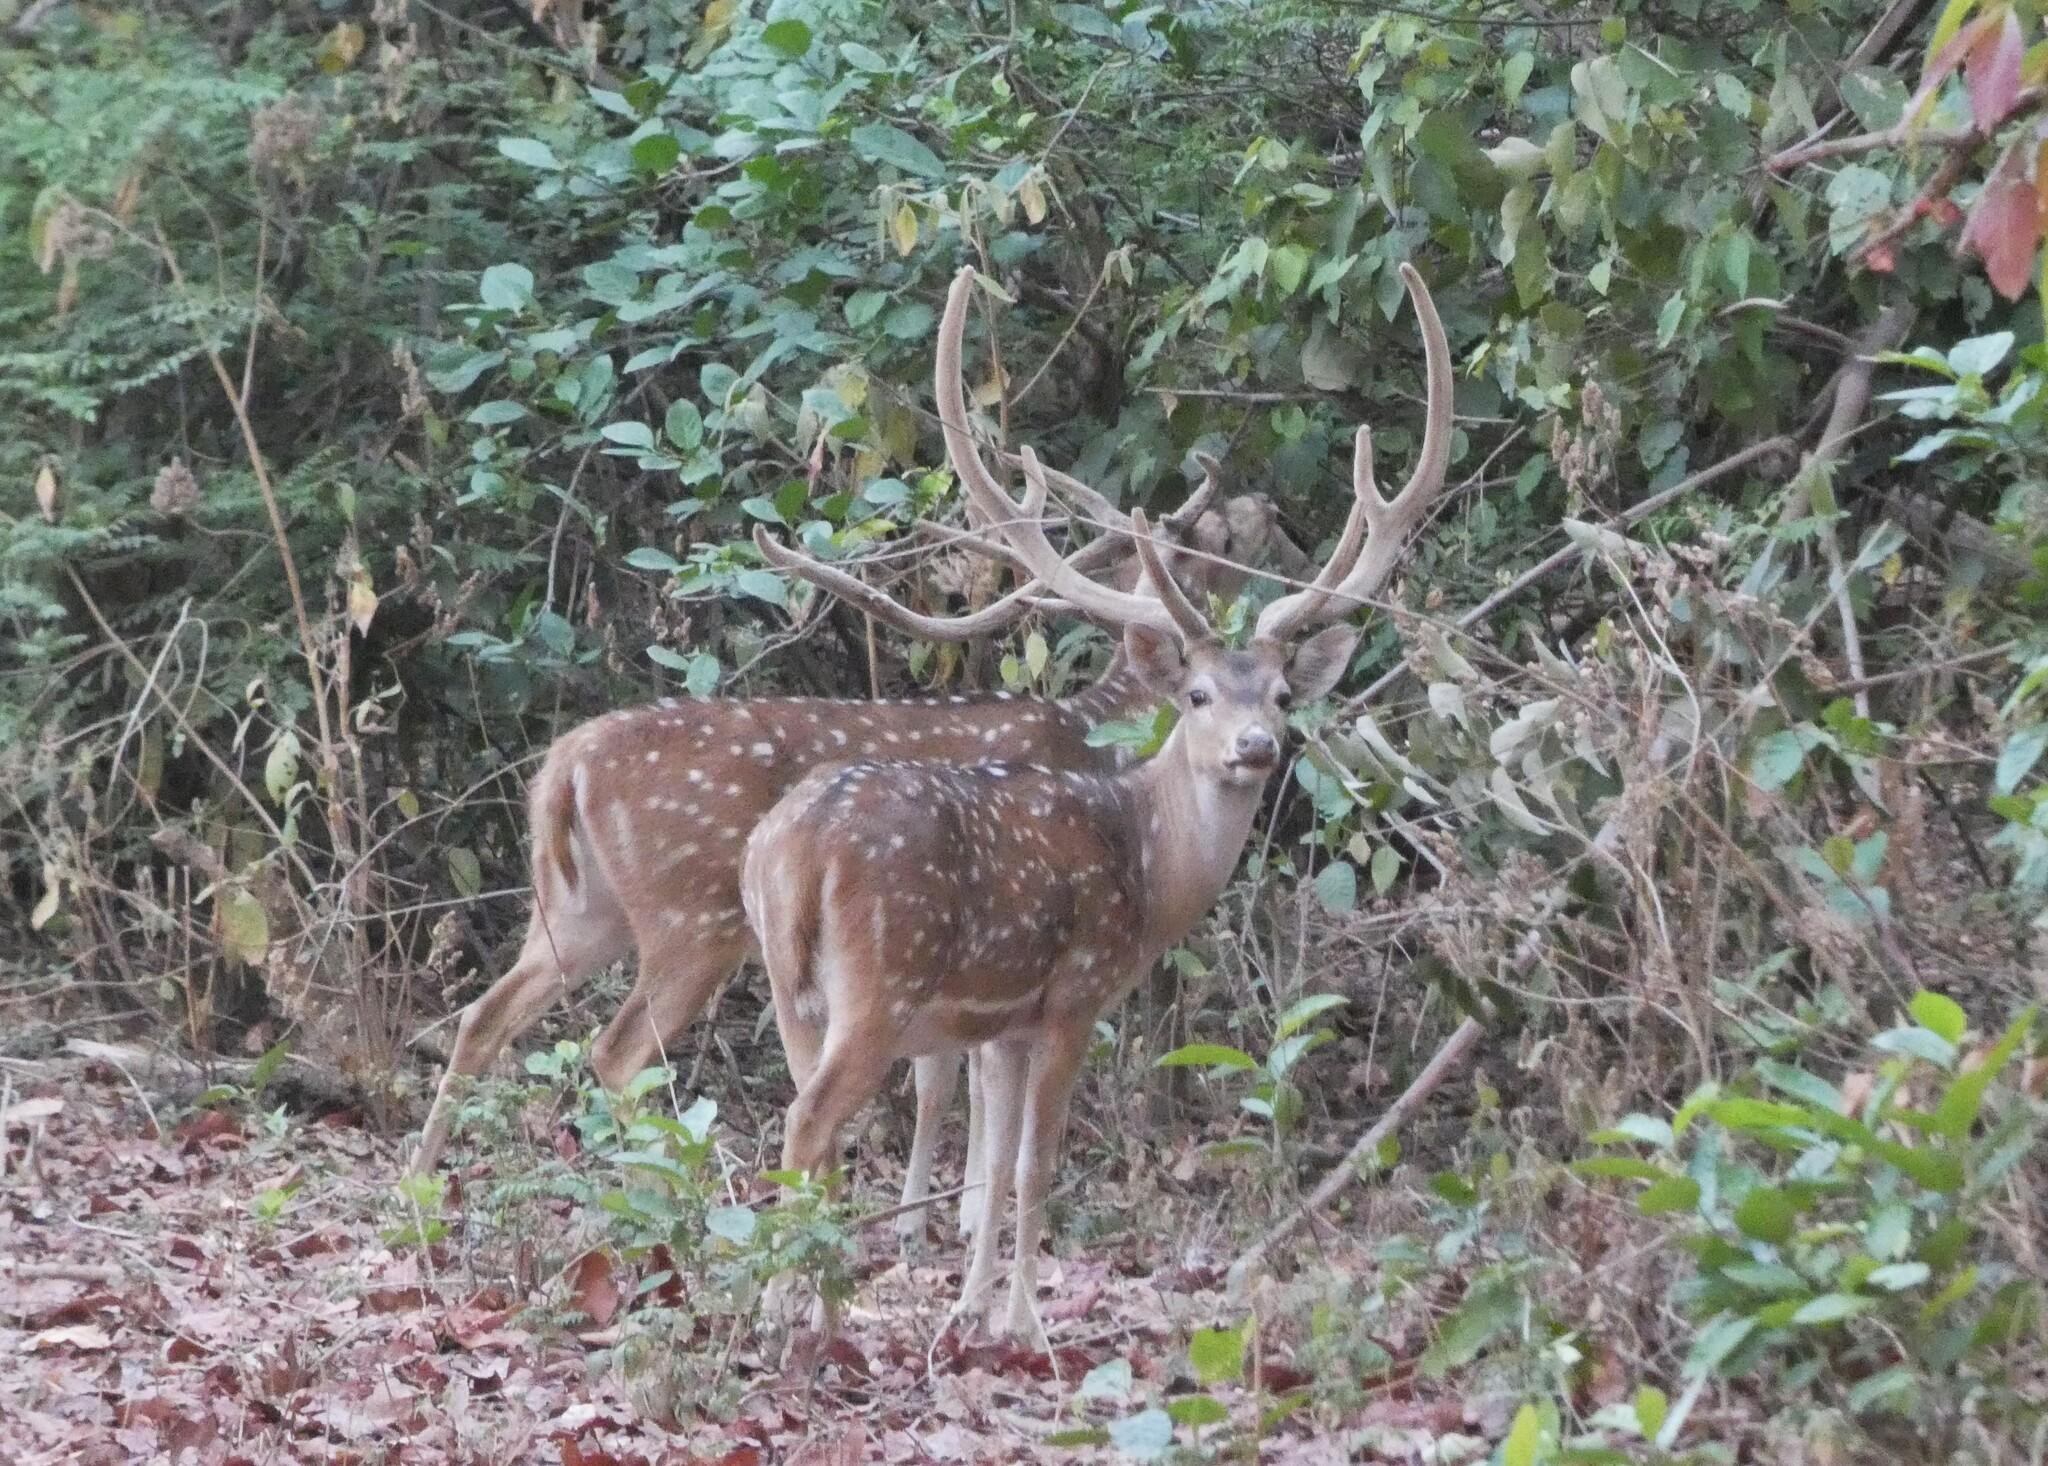Deer: (741, 267, 1452, 1325), (451, 660, 1153, 1087)
